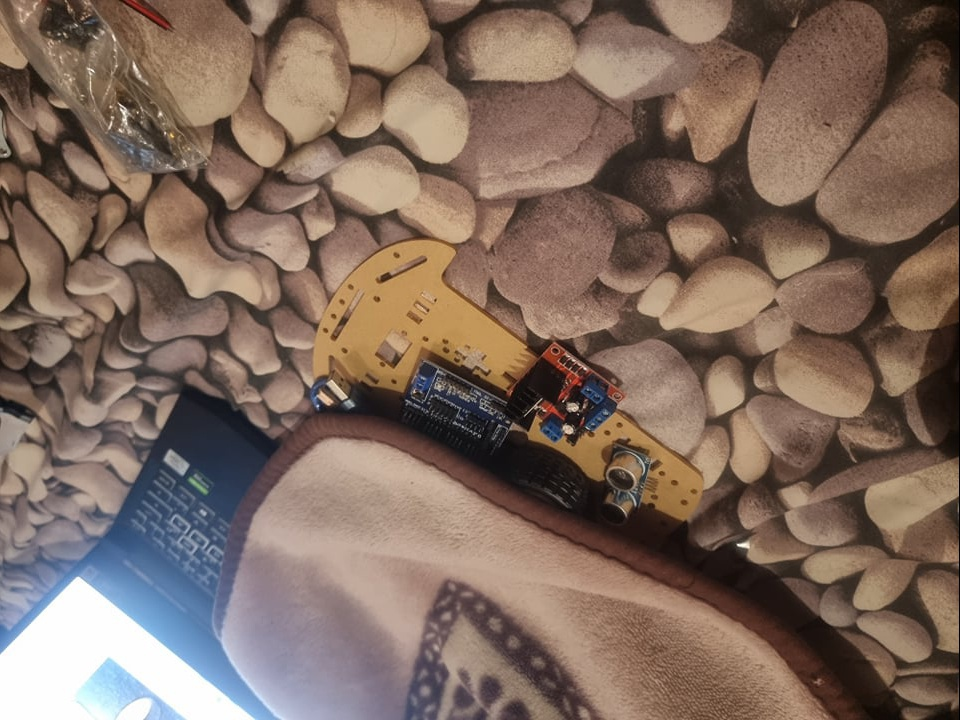5V EXPANSION: (400, 357, 512, 462)
MOTOR: (508, 338, 631, 450)
SENSOR: (605, 440, 655, 533)
